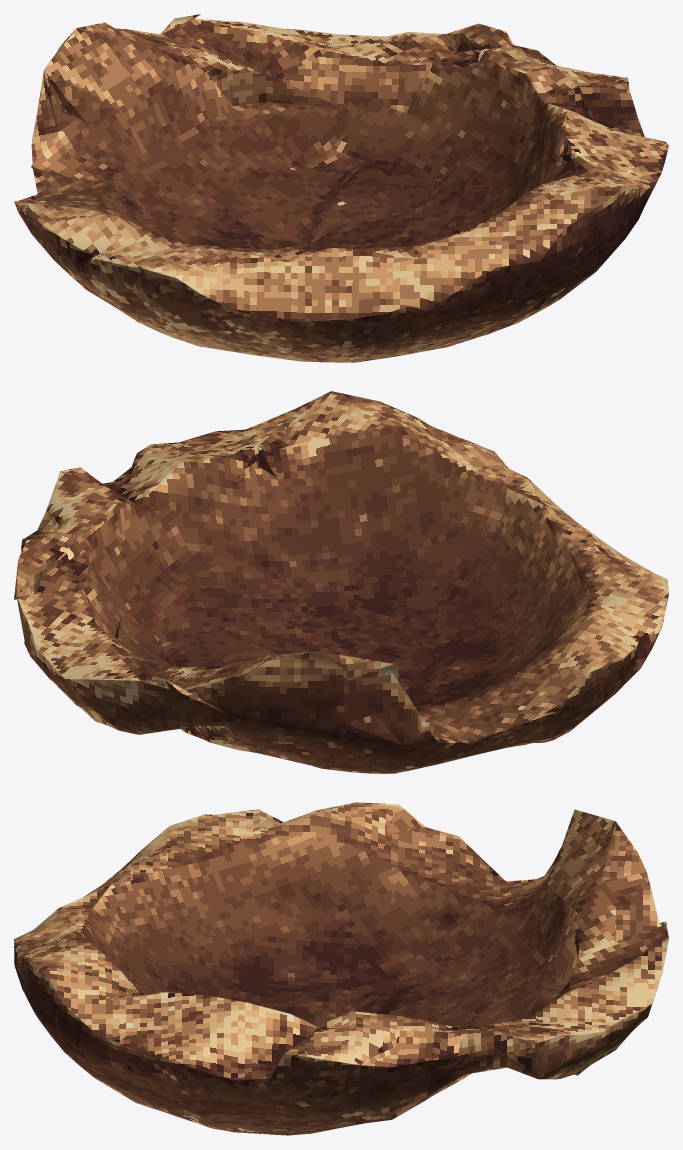
File: wooden_bowl_01.glb
The picture shows the model from 3 angles, top to bottom: view 1: azimuth 30°, elevation 25°; view 2: azimuth 150°, elevation 25°; view 3: azimuth 270°, elevation 25°; orthographic projection. The views are drawn at different scales.
Parts seen in each view (by area): view 1: body; view 2: body; view 3: body.
Part boxes in pixels (left/top/right/bottom): body: left=14, top=14, right=668, bottom=362; body: left=14, top=391, right=668, bottom=773; body: left=14, top=802, right=668, bottom=1135.
Size of the model in its own units: 0.3122 by 0.0937 by 0.3077.
1 material, 1 textured.
